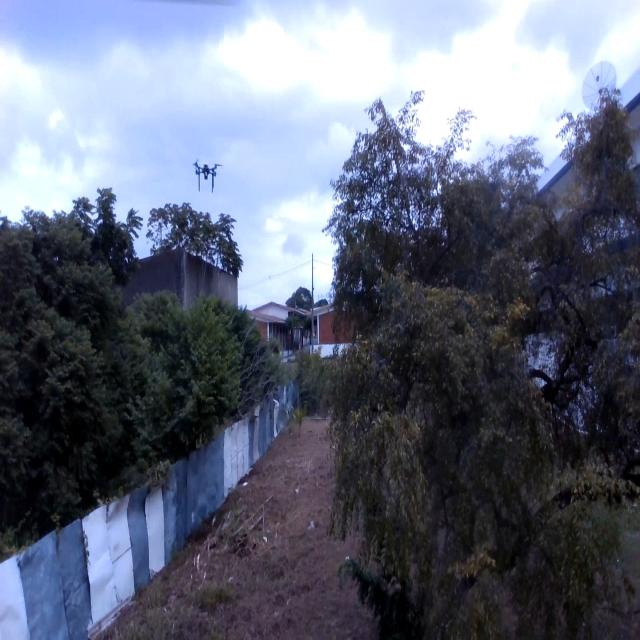-uav-: (188, 146, 224, 202)
